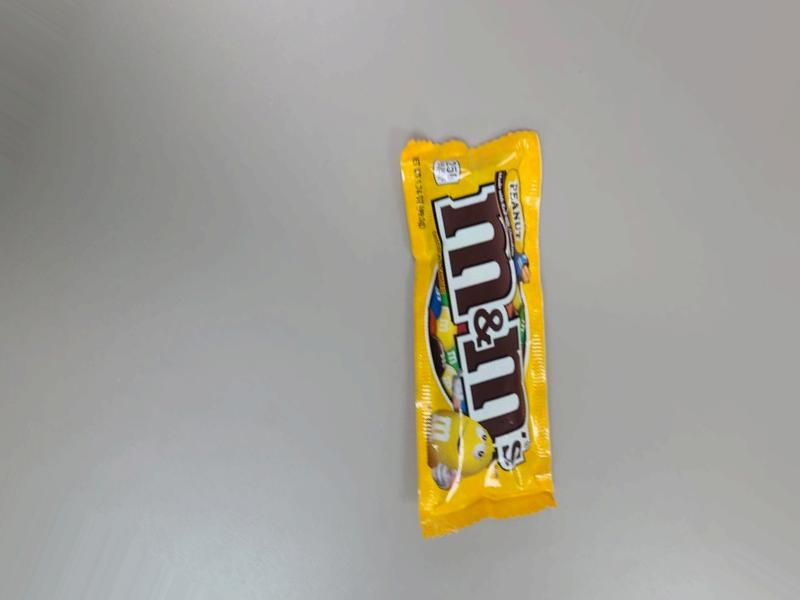m&m: (378, 91, 550, 560)
